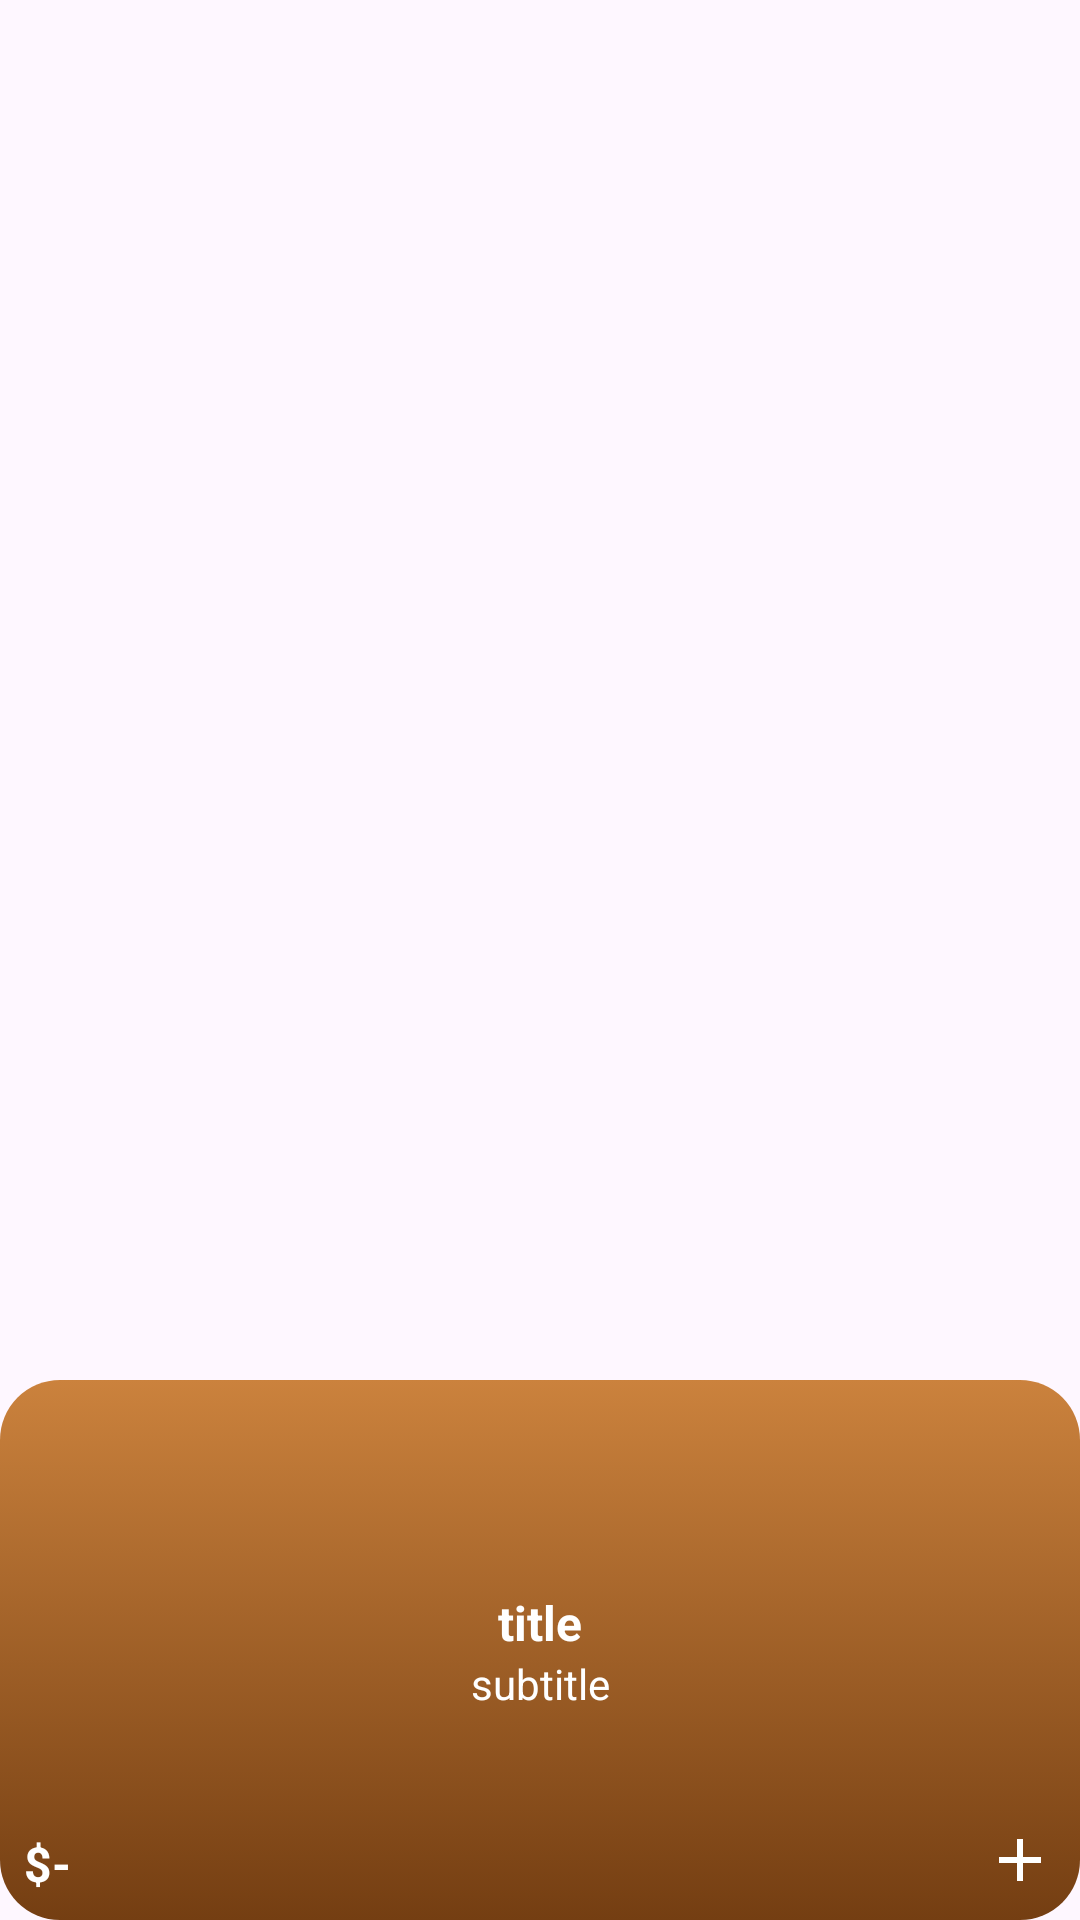

Named icons in this screenshot (1080px x 1920px) and their bounding boxes, [left=x1, top=y1, right=x2, bottom=y2]:
plus: [left=999, top=1839, right=1041, bottom=1881]
